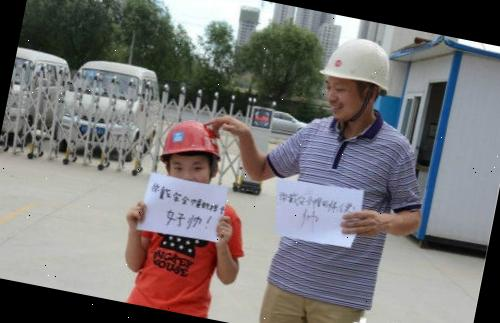helmet: (316, 28, 400, 95), (158, 114, 226, 172)
no_wear: (274, 118, 410, 307), (126, 190, 234, 318)
